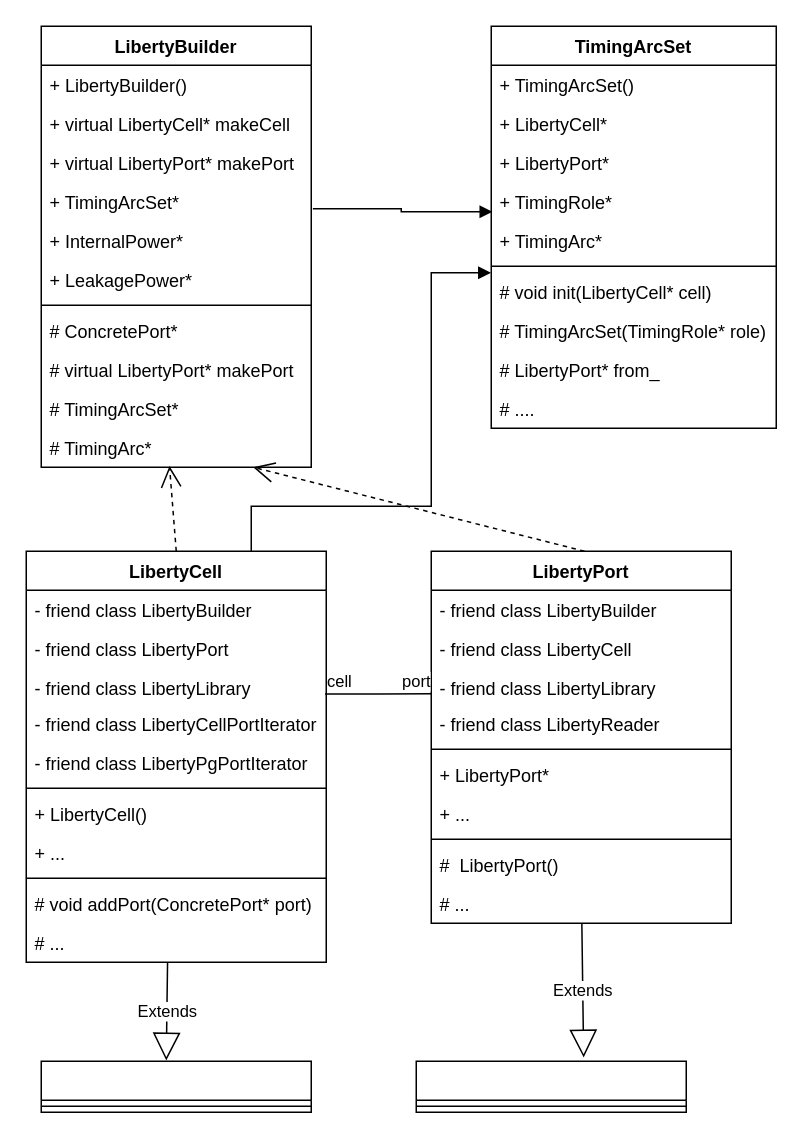
This 803x1139 diagram has some shape labels left out. The centre of each missing label's shape, as x and y in pixels:
ConcreteCell: the point at 175,1086
ConcretePort: the point at 550,1086
